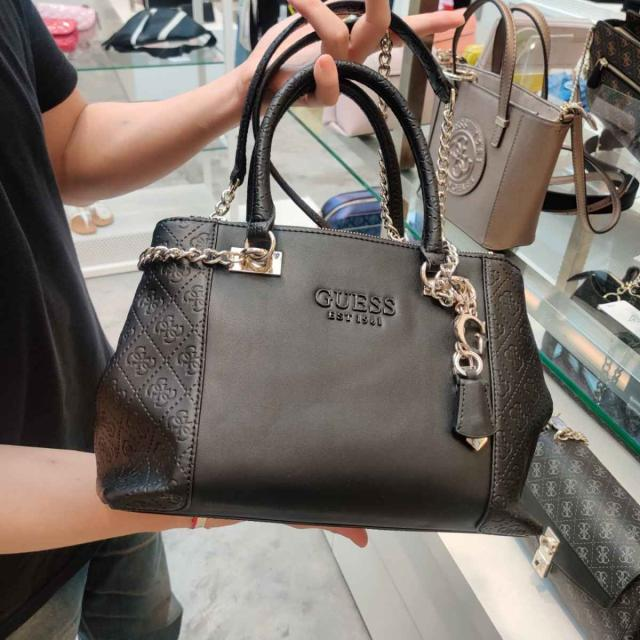Handbag: (97, 60, 553, 530)
